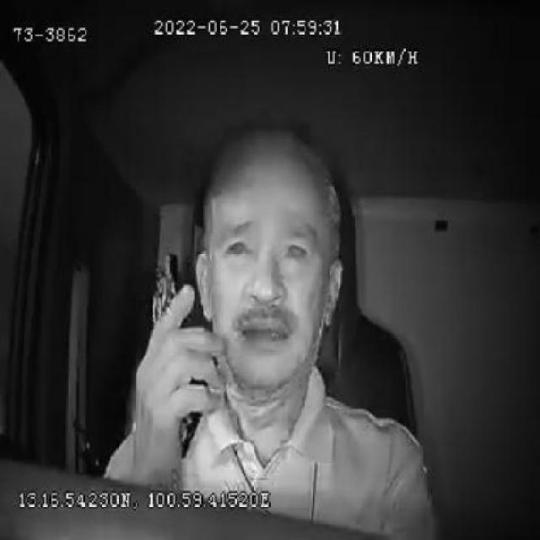phone: (148, 249, 205, 458)
